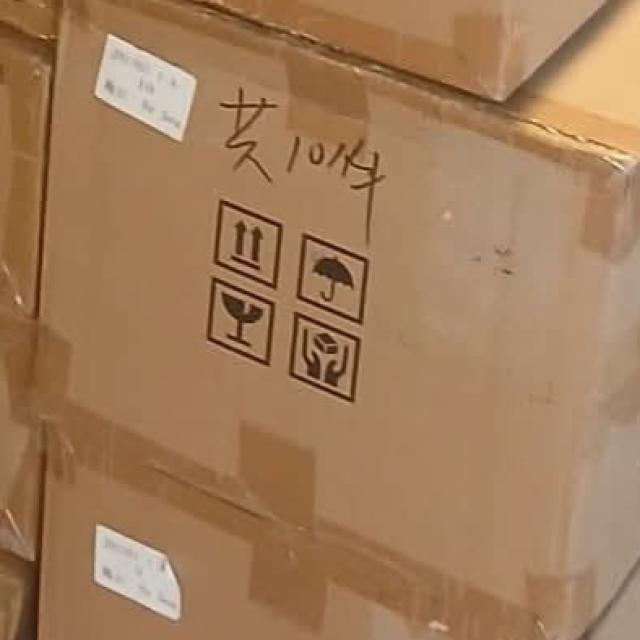carton_box: (31, 0, 640, 640)
export_mark_label: (75, 20, 243, 146), (81, 515, 217, 633)
fragile_label: (200, 266, 286, 386)
handle_with_care_label: (287, 306, 380, 414)
keep_dry_label: (292, 224, 381, 325)
this_side_up_label: (199, 184, 288, 290)
